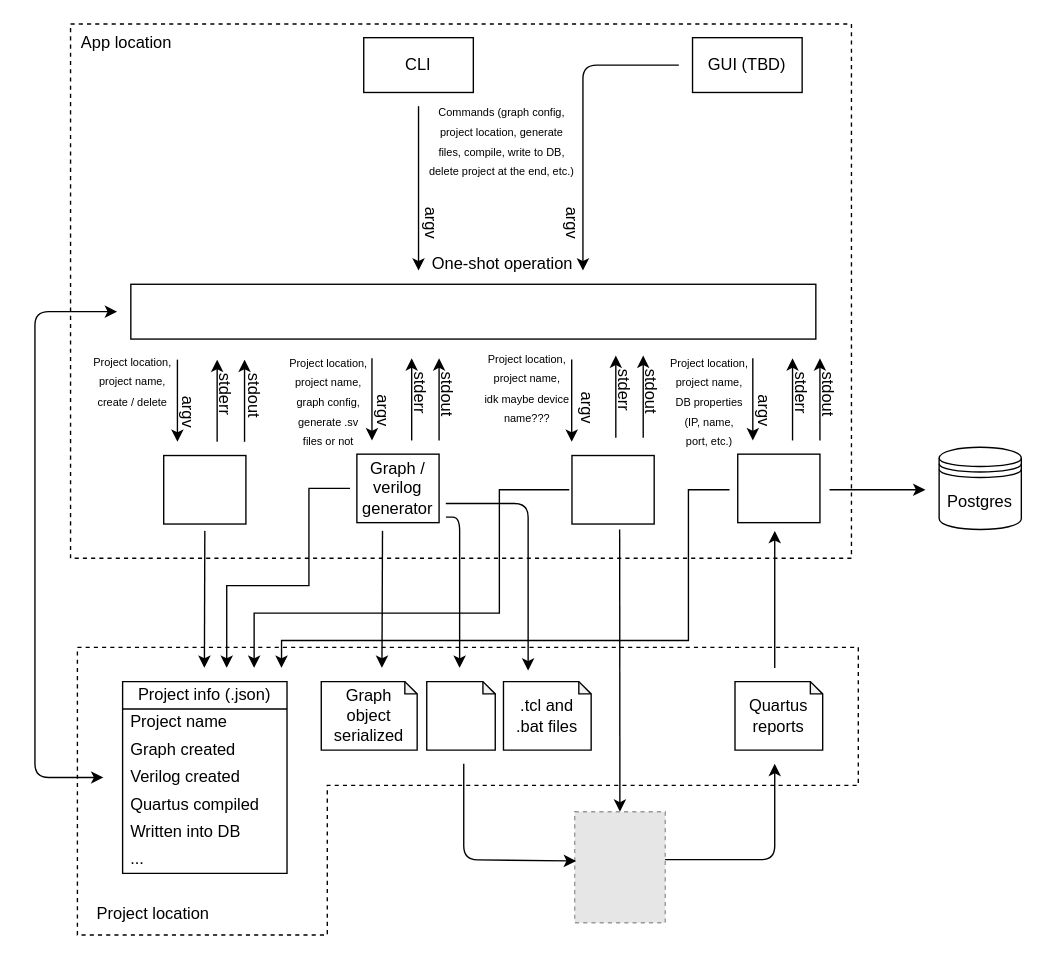
The diagram is 1045 pixels wide and 959 high, and some of its shapes have lost their labels. Grey dashed boxes stand in for pictures. Each missing label, with the centre of its shape:
Broker: the point at 472,311
DB writer: the point at 778,488
Project manager: the point at 204,489
Quartus compiler: the point at 612,489
Verilog files: the point at 460,715
